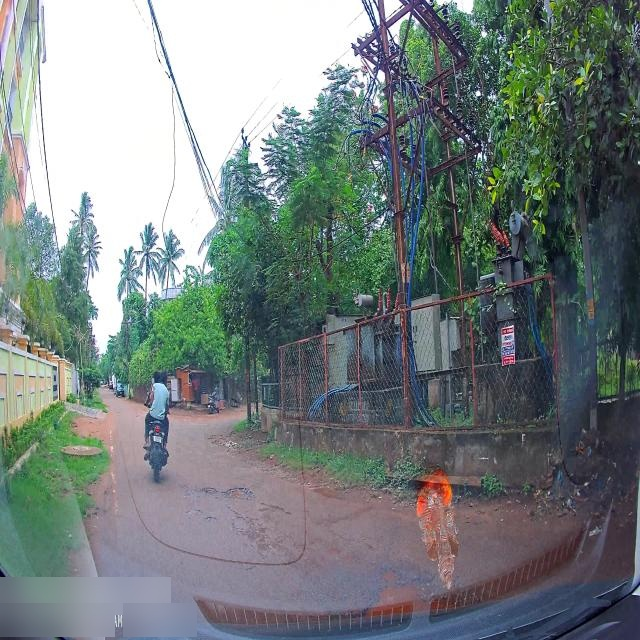pothole: (366, 587, 426, 612), (221, 487, 261, 509), (378, 558, 404, 583), (200, 482, 219, 501), (206, 517, 221, 527)
